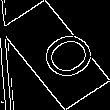O_SW: (18, 23, 92, 87)
